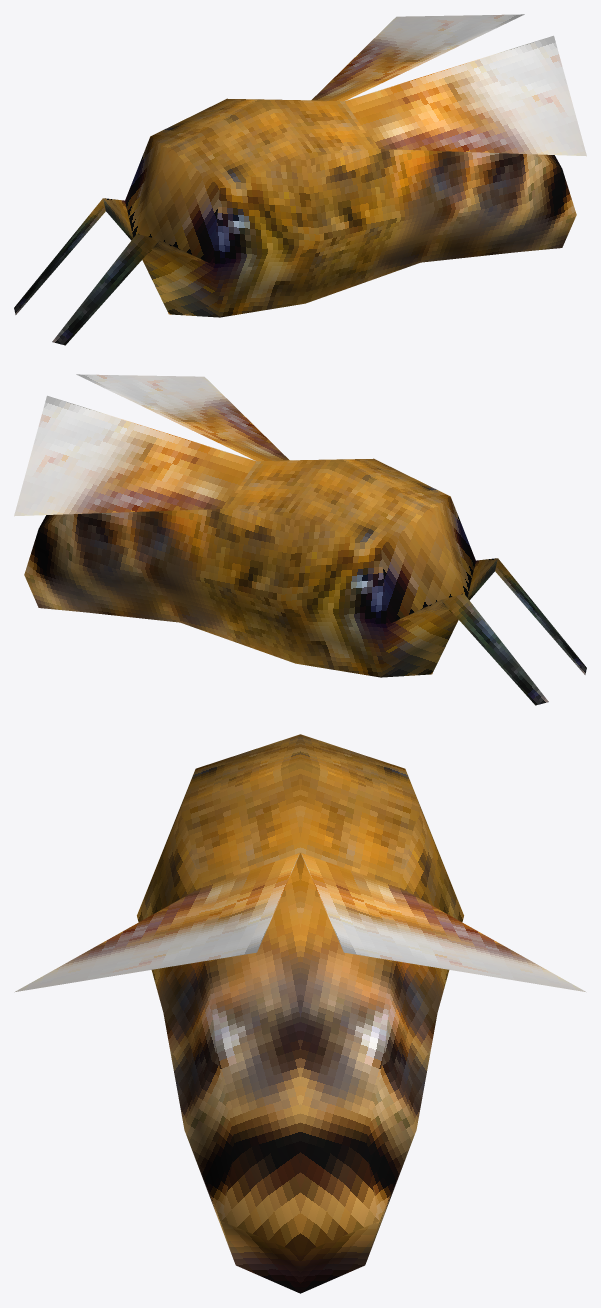
File: ps1-bee.glb
The picture shows the model from 3 angles, top to bottom: view 1: azimuth 30°, elevation 25°; view 2: azimuth 150°, elevation 25°; view 3: azimuth 270°, elevation 25°; orthographic projection. The views are drawn at different scales.
Parts seen in each view (by area): view 1: Cube; view 2: Cube; view 3: Cube.
Boxes of the visible parts, x1,y1,x2,y2 form: Cube: (14, 14, 586, 345); Cube: (14, 374, 586, 705); Cube: (14, 734, 586, 1293).
Size of the model in its own units: 1.61 by 0.6366 by 0.9925.
Materials: 1 (1 with a texture image).
